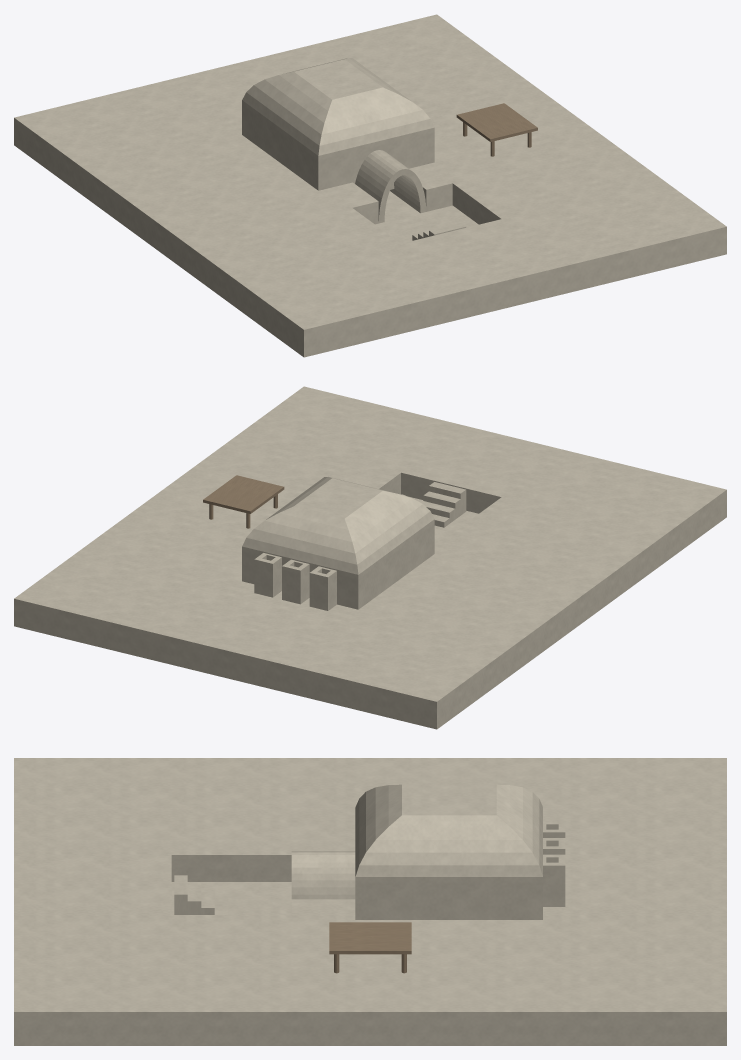
File: kiln-A-LOD1.glb
The picture shows the model from 3 angles, top to bottom: view 1: azimuth 30°, elevation 25°; view 2: azimuth 150°, elevation 25°; view 3: azimuth 270°, elevation 25°; orthographic projection. The views are drawn at different scales.
Parts seen in each view (by area): view 1: A_presentation_ground, A_detachable_roof_C, A_chamber_walls, A_fire_hood, A_blank_drying_board_C, A_operation_pit_floor, A_fire_floor; view 2: A_presentation_ground, A_detachable_roof_C, A_chamber_walls, A_blank_drying_board_C, A_short_flue.001, A_short_flue.002, A_short_flue; view 3: A_presentation_ground, A_detachable_roof_C, A_chamber_walls, A_fire_hood, A_blank_drying_board_C, A_operation_pit_floor, A_short_flue.002, A_pit_access_step, A_pit_access_step.001.
Boxes of the visible parts, box(x1,y1,x2,y2) form: A_presentation_ground: box(14, 14, 726, 357); A_detachable_roof_C: box(242, 58, 434, 155); A_chamber_walls: box(242, 100, 434, 190); A_fire_hood: box(355, 150, 426, 223); A_blank_drying_board_C: box(456, 103, 537, 141); A_operation_pit_floor: box(375, 205, 478, 243); A_fire_floor: box(384, 191, 419, 221); A_presentation_ground: box(14, 386, 726, 729); A_detachable_roof_C: box(242, 477, 434, 574); A_chamber_walls: box(242, 519, 434, 609); A_blank_drying_board_C: box(203, 475, 284, 513); A_short_flue.001: box(282, 559, 309, 604); A_short_flue.002: box(254, 553, 281, 597); A_short_flue: box(309, 566, 336, 610); A_presentation_ground: box(14, 758, 726, 1045); A_detachable_roof_C: box(355, 784, 542, 876); A_chamber_walls: box(355, 877, 542, 919); A_fire_hood: box(291, 851, 355, 899); A_blank_drying_board_C: box(329, 922, 411, 954); A_operation_pit_floor: box(171, 882, 291, 914); A_short_flue.002: box(543, 854, 565, 906); A_pit_access_step: box(174, 875, 187, 914); A_pit_access_step.001: box(187, 882, 201, 914).
Size of the model in its own units: 16 by 3.54 by 19.
2 materials, 2 textured.
